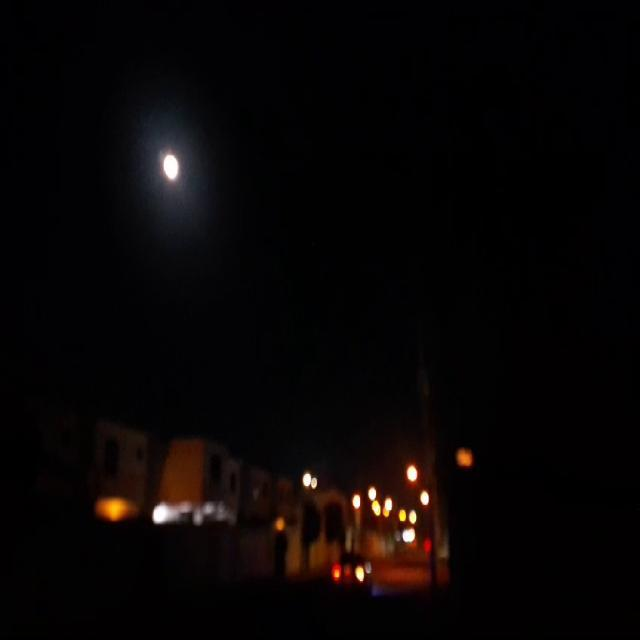moon: (164, 151, 184, 185)
